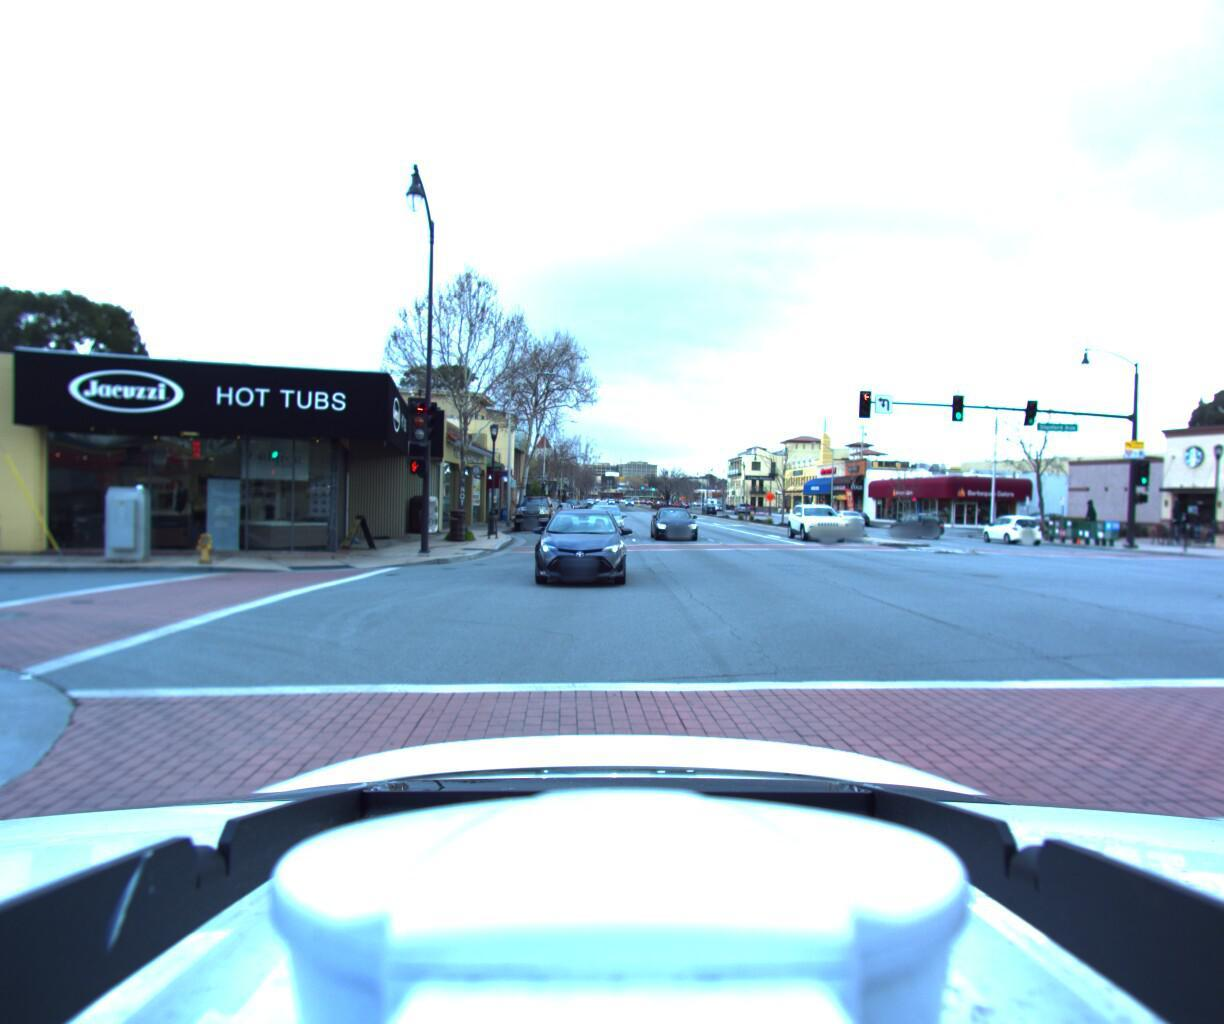car: (530, 505, 624, 590), (784, 502, 849, 542), (972, 511, 1038, 544), (651, 505, 703, 544), (509, 493, 559, 533), (881, 507, 938, 536), (819, 509, 859, 530), (840, 506, 873, 528)
